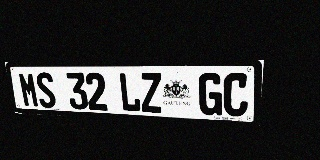2: (85, 72, 108, 111)
3: (66, 72, 89, 110)
C: (223, 73, 249, 117)
G: (199, 73, 223, 116)
L: (118, 73, 141, 112)
M: (18, 72, 40, 108)
S: (35, 72, 57, 108)
Z: (140, 73, 163, 113)
